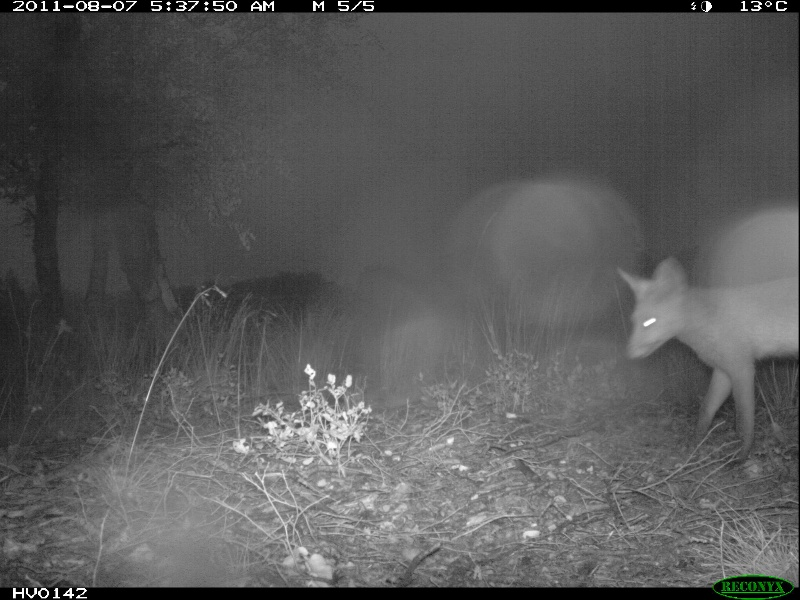fox: (617, 250, 800, 469)
